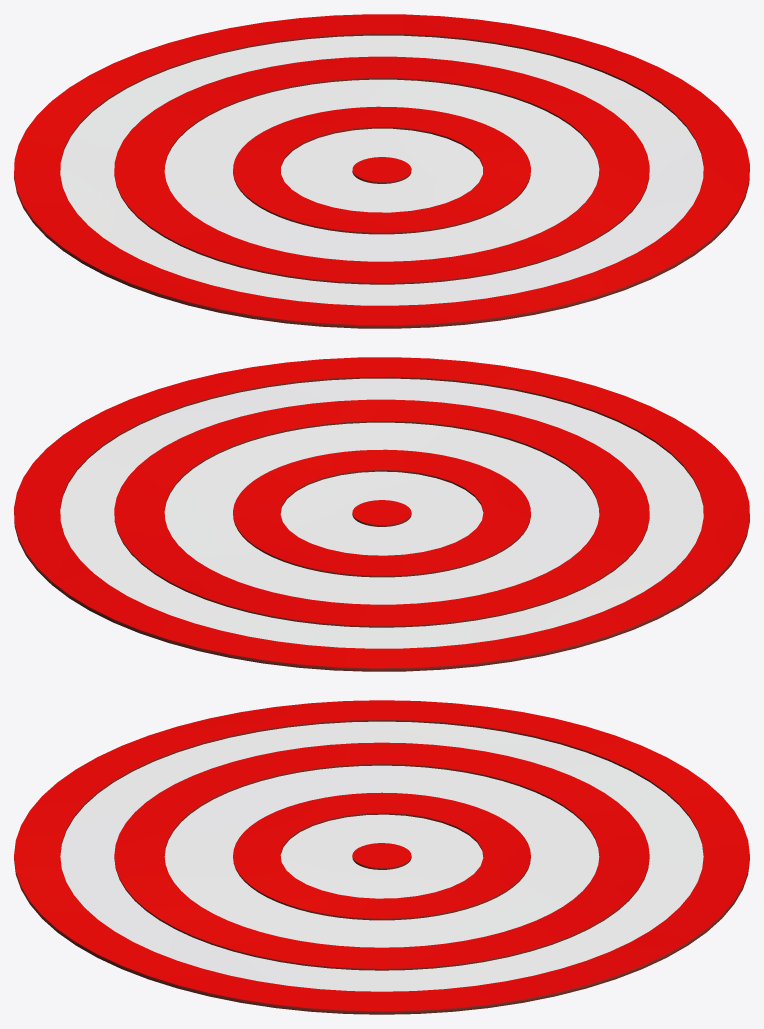
Rendered from target.glb.
3 renders of one model, top to bottom at view 1: azimuth 30°, elevation 25°; view 2: azimuth 150°, elevation 25°; view 3: azimuth 270°, elevation 25°, orthographic.
Parts seen in each view (by area): view 1: Target; view 2: Target; view 3: Target.
Boxes of the visible parts, bbox=[...] form: Target: bbox=[14, 14, 749, 328]; Target: bbox=[14, 357, 749, 671]; Target: bbox=[14, 700, 749, 1014].
Size of the model in its own units: 24 by 0.1331 by 24.
1 material, 1 textured.
